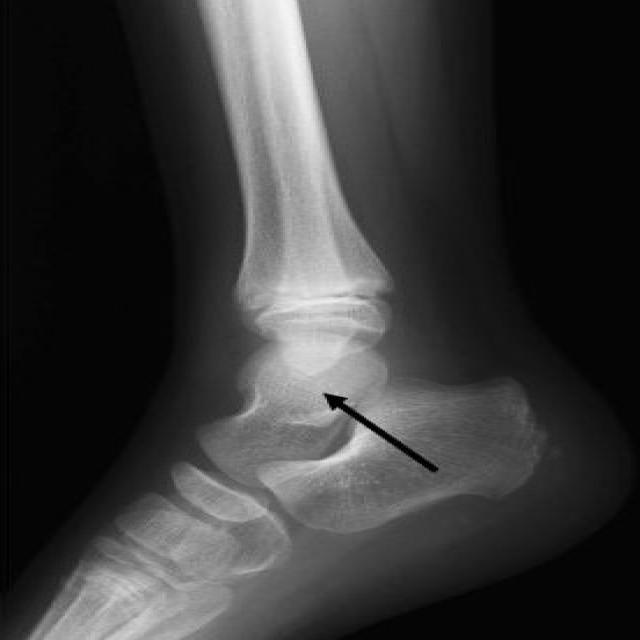Avulsion-fracture-: (213, 252, 495, 504)
